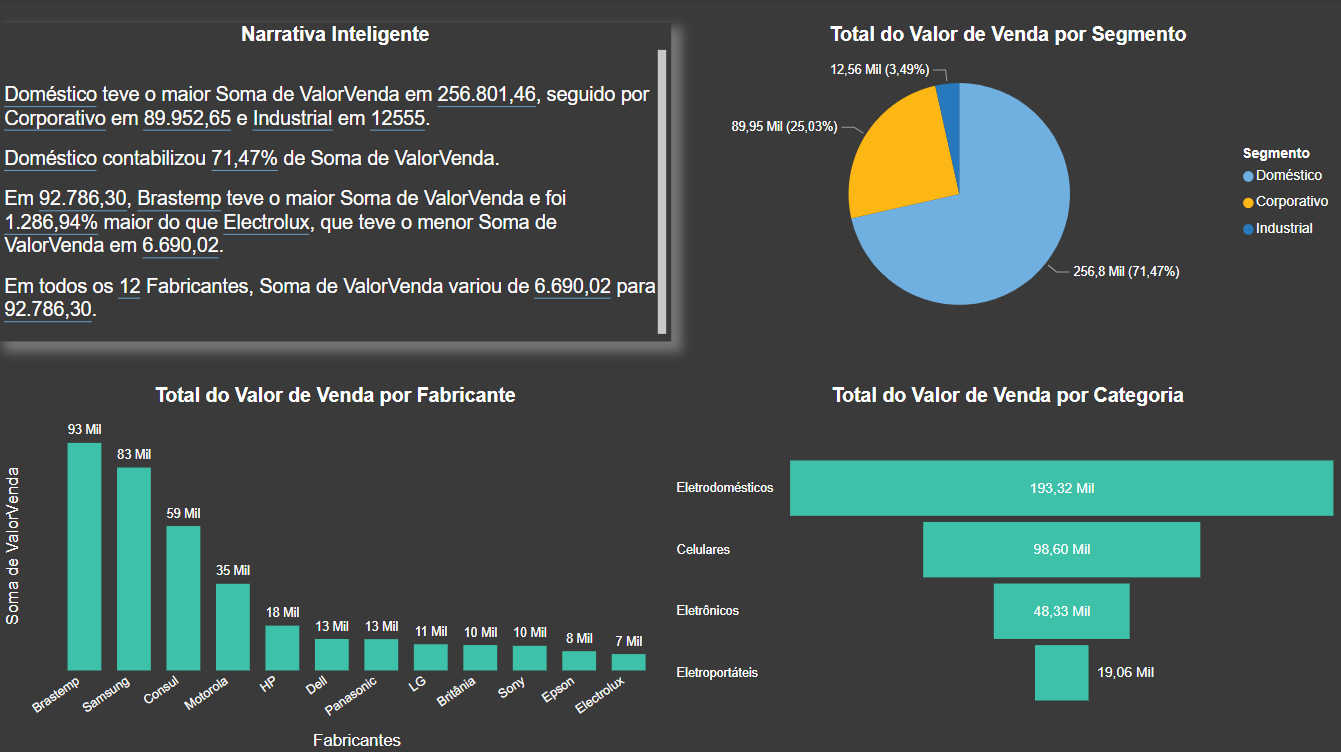

The page's visual inventory and layout, read from the dashboard file:
{"tool":"powerbi","page":{"name":"Narrativa Inteligente","canvas":[1280,720],"ordinal":1},"visuals":[{"type":"pieChart","title":"Total do Valor de Venda por Segmento","fields":{"Category":["Vendas.Segmento"],"Y":["Sum(Vendas.ValorVenda)"]},"box":[640.3,23.8,640.3,304.7],"z":0},{"type":"funnel","title":"Total do Valor de Venda por Categoria","fields":{"Y":["Sum(Vendas.ValorVenda)"],"Category":["Vendas.Categoria"]},"box":[640,368,640,352],"z":1000},{"type":"clusteredColumnChart","title":"Total do Valor de Venda por Fabricante","fields":{"Y":["Sum(Vendas.ValorVenda)"],"Category":["Vendas.Fabricante"]},"box":[0,368,640,352],"z":2000},{"type":"textbox","title":"Narrativa Inteligente","box":[0,23.8,640.3,303.5],"z":3000}]}

Visuals, with their boxes in screenshot pixels (x1, y1, x2, y2), scaled from the page's 1280x720 canvas onto the 1341x752 screenshot:
"Total do Valor de Venda por Segmento" pieChart: BBox(671, 25, 1340, 343)
"Total do Valor de Venda por Categoria" funnel: BBox(670, 384, 1340, 751)
"Total do Valor de Venda por Fabricante" clusteredColumnChart: BBox(0, 384, 670, 751)
"Narrativa Inteligente" textbox: BBox(0, 25, 671, 342)
